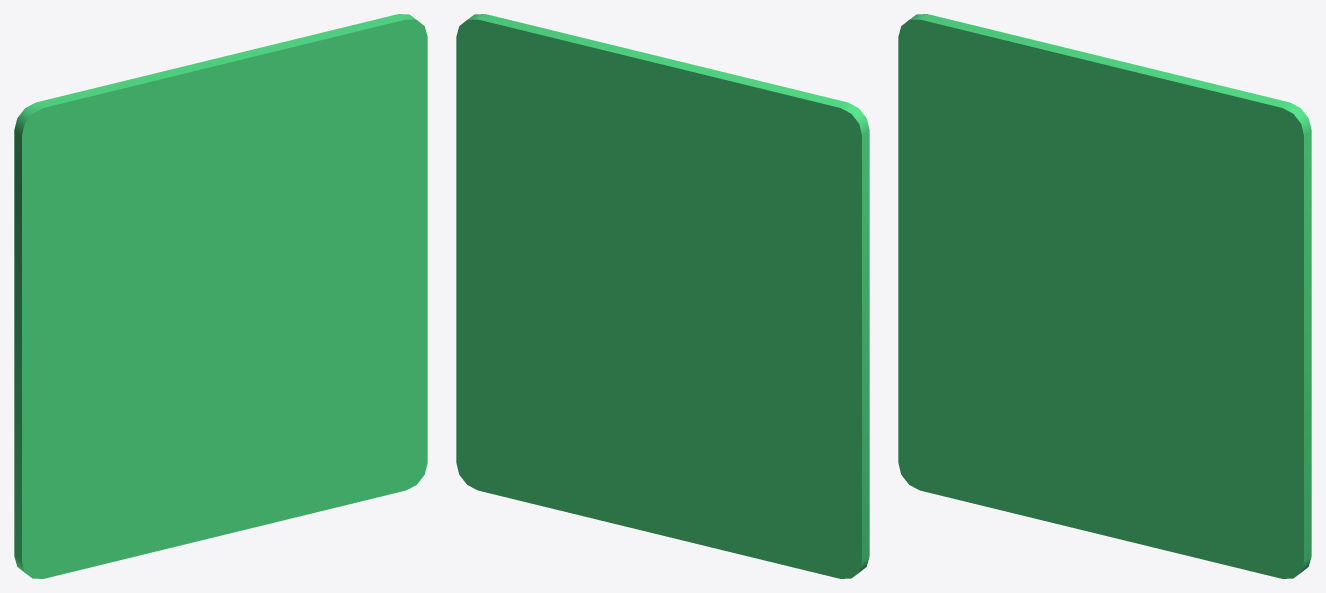
The model's file is Cube_Widgets_Navigator_Bevel.fbx.
The picture shows the model from 3 angles, left to right: view 1: azimuth 30°, elevation 25°; view 2: azimuth 150°, elevation 25°; view 3: azimuth 330°, elevation 25°; orthographic projection.
Parts seen in each view (by area): view 1: Cube_Widgets_Navigator_Bevel; view 2: Cube_Widgets_Navigator_Bevel; view 3: Cube_Widgets_Navigator_Bevel.
Part boxes in pixels (x1,y1,x2,y2): Cube_Widgets_Navigator_Bevel: (14,14,427,578); Cube_Widgets_Navigator_Bevel: (456,14,869,578); Cube_Widgets_Navigator_Bevel: (898,14,1311,578).
Bounding box in the file's own units: 310 × 344 × 10.
